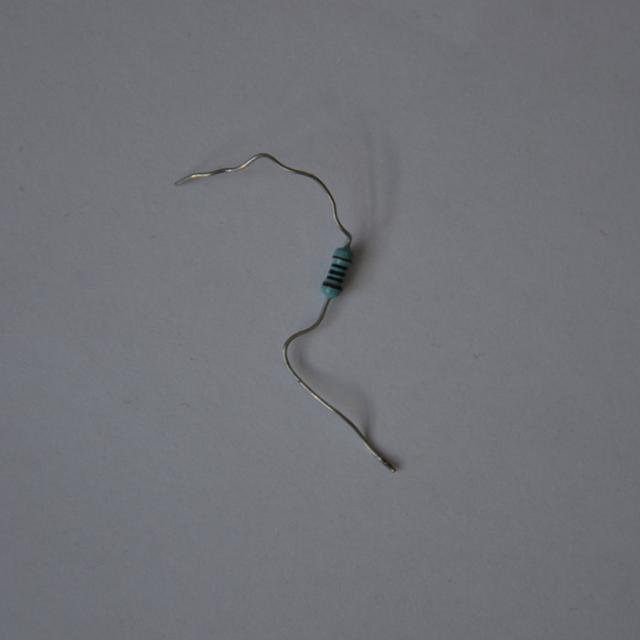Resistor Carbon-Film: (316, 244, 359, 301)
